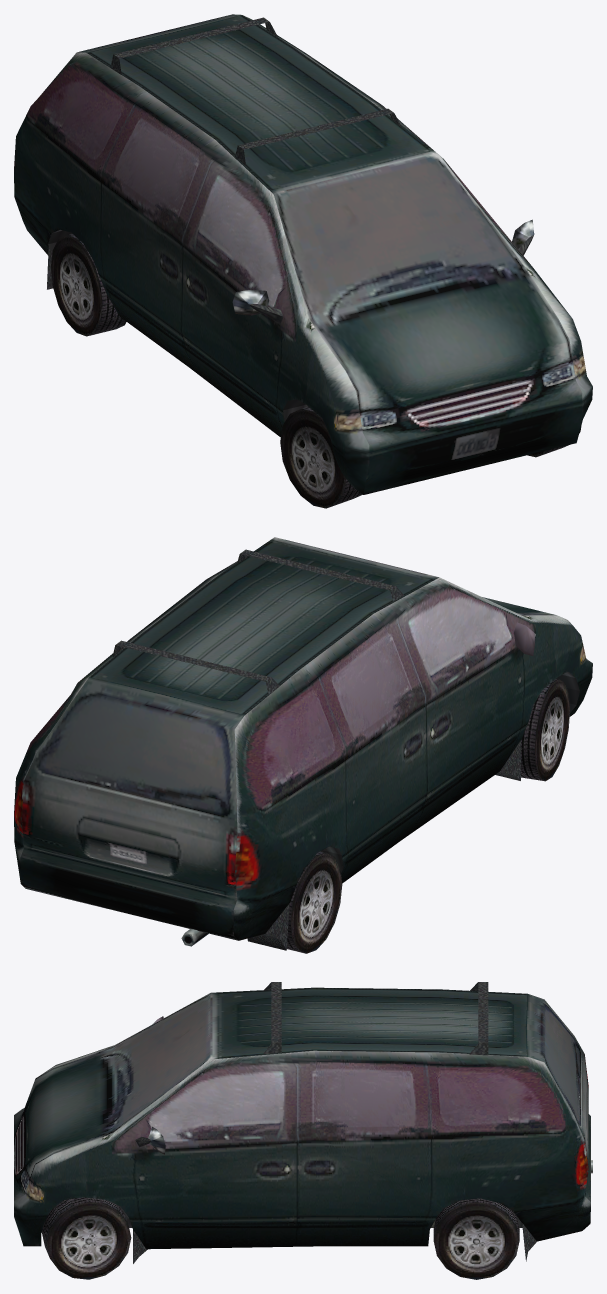
The model's file is van_02.fbx.
The picture shows the model from 3 angles, top to bottom: view 1: azimuth 30°, elevation 25°; view 2: azimuth 150°, elevation 25°; view 3: azimuth 270°, elevation 25°; orthographic projection. The views are drawn at different scales.
Parts seen in each view (by area): view 1: mesh_0; view 2: mesh_0; view 3: mesh_0.
Part boxes in pixels (left/top/right/bottom): mesh_0: left=14, top=14, right=592, bottom=508; mesh_0: left=14, top=537, right=592, bottom=953; mesh_0: left=14, top=982, right=592, bottom=1279.
Bounding box in the file's own units: 229 × 192 × 461.
Materials: 1 (1 with a texture image).
